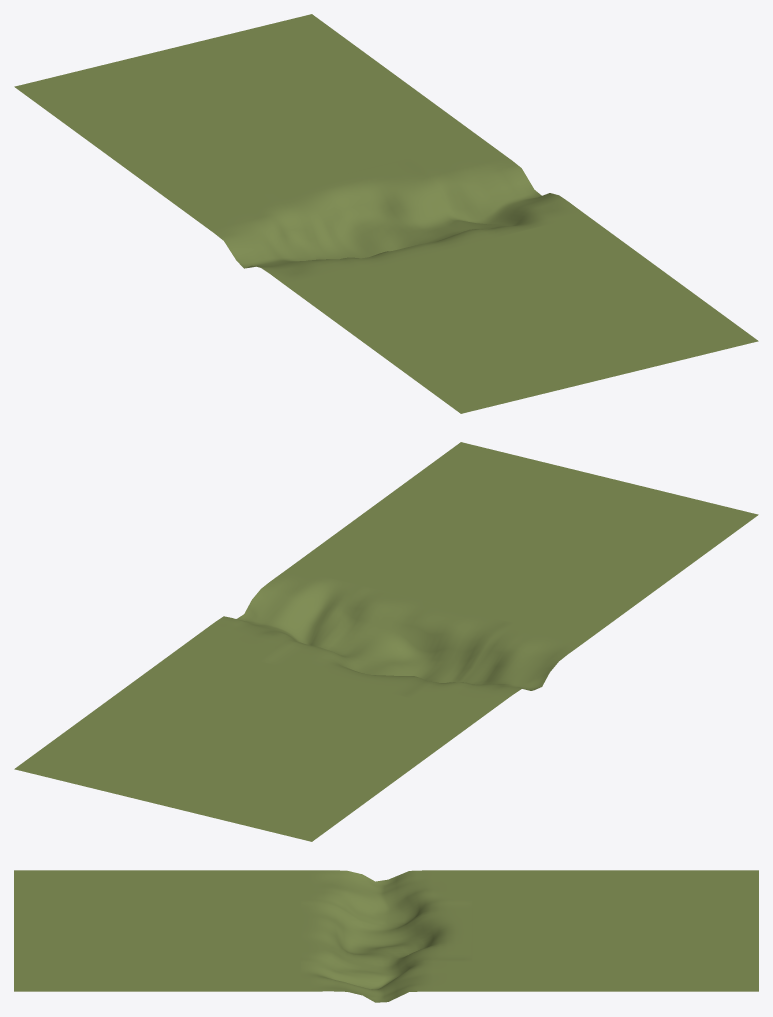
Rendered from 2_2 Tile_6_smooth.fbx.
The picture shows the model from 3 angles, top to bottom: view 1: azimuth 30°, elevation 25°; view 2: azimuth 150°, elevation 25°; view 3: azimuth 270°, elevation 25°; orthographic projection. The views are drawn at different scales.
Visible parts, largest first — view 1: Tile 2.001; view 2: Tile 2.001; view 3: Tile 2.001.
Part boxes in pixels (x1=…): Tile 2.001: x1=14, y1=14, x2=758, y2=413; Tile 2.001: x1=14, y1=442, x2=758, y2=841; Tile 2.001: x1=14, y1=870, x2=758, y2=1002.
Bounding box in the file's own units: 5000 × 508 × 12991.
